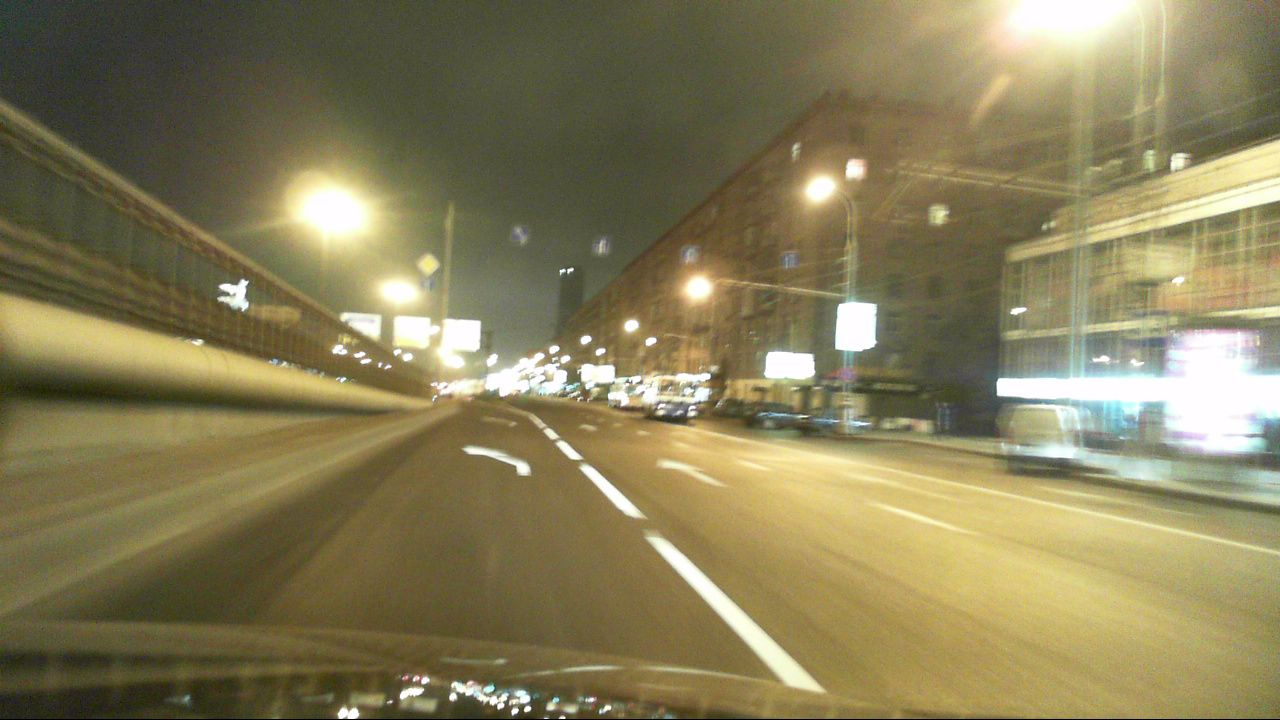No Parking: (836, 364, 854, 383)
